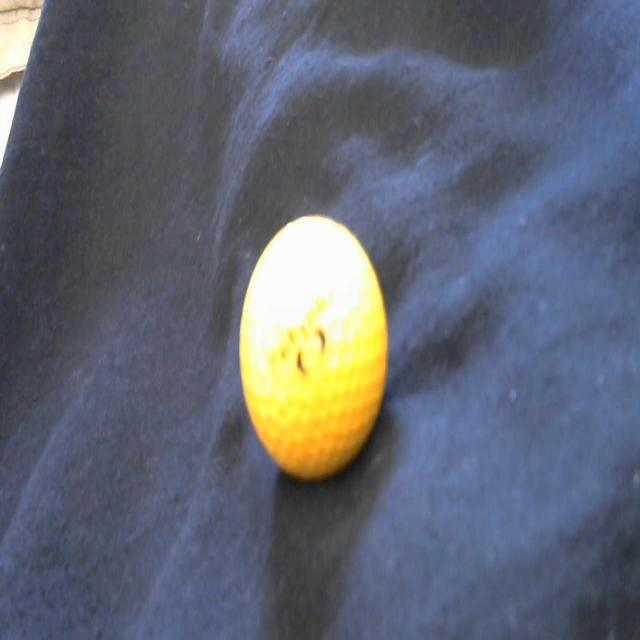golfball: (235, 206, 394, 490)
